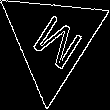M_SW: (22, 6, 83, 75)
